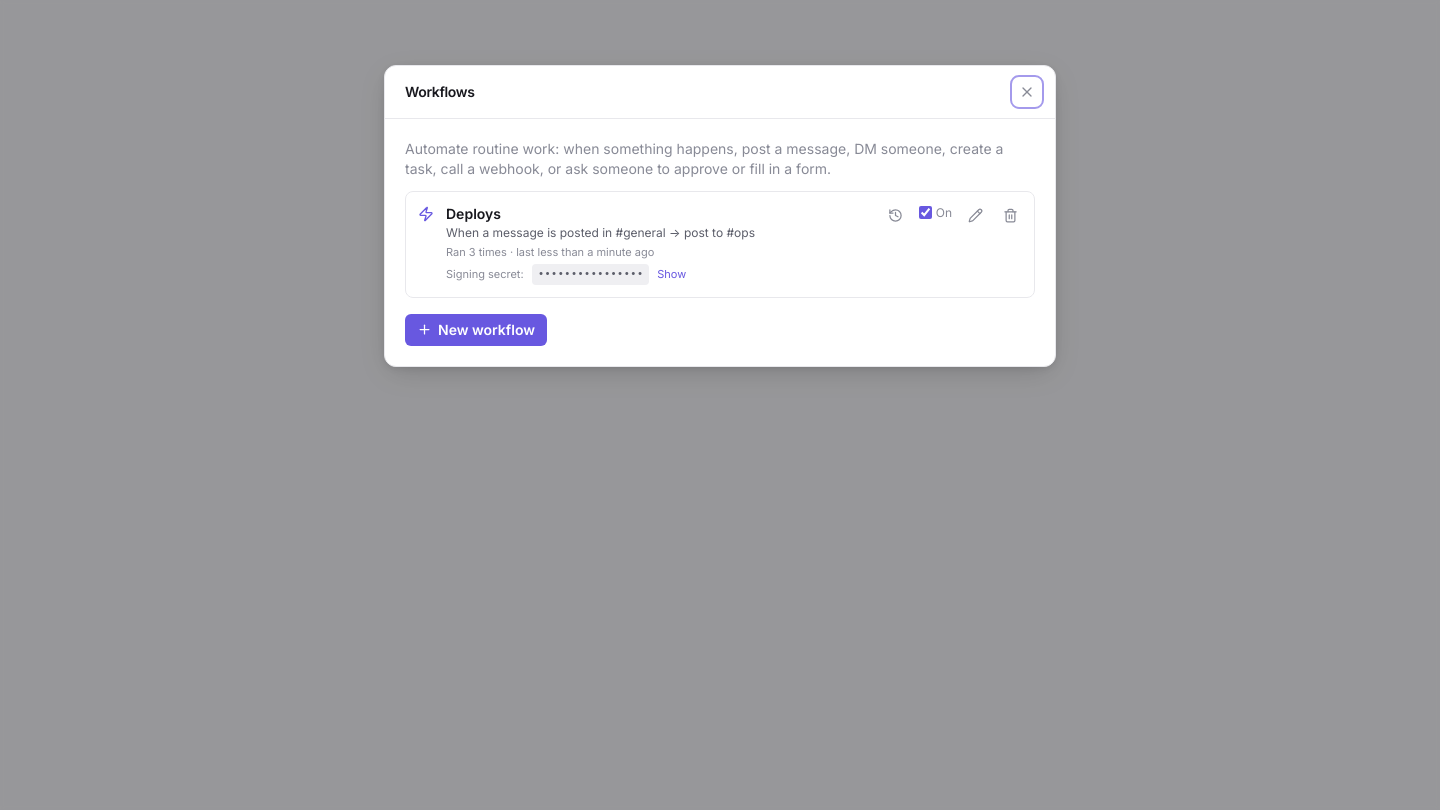
Test: WorkflowsDialog › shows run history and a hidden signing secret to admins
Check: the text "abc123secret" is not shown
Click the button "Show" at point(672, 275), box [657,266,686,283]
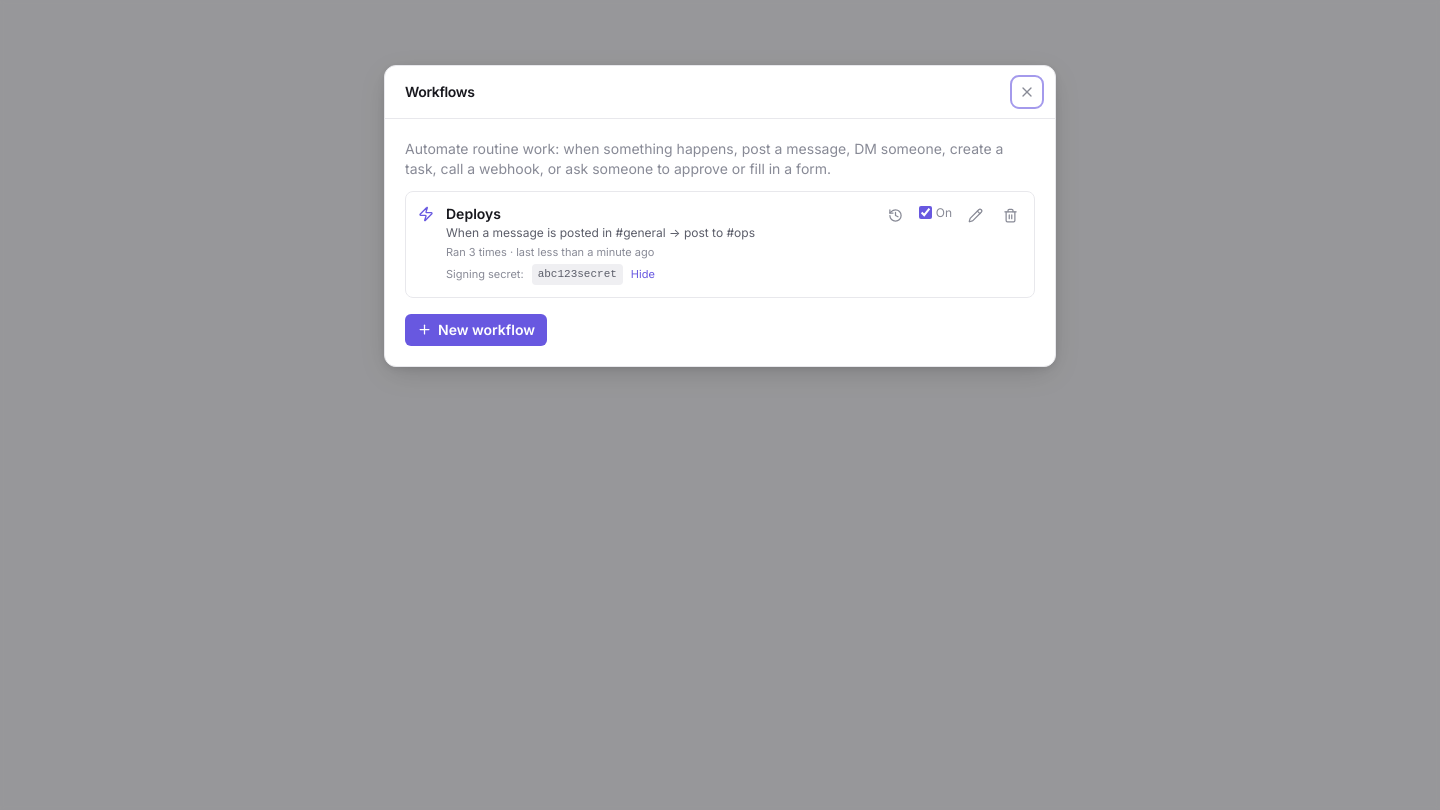
Check: the text "abc123secret" is shown, box [532,264,623,285]
Click the button named "Run history for Deploys" at point(895, 215), box [884,204,907,227]
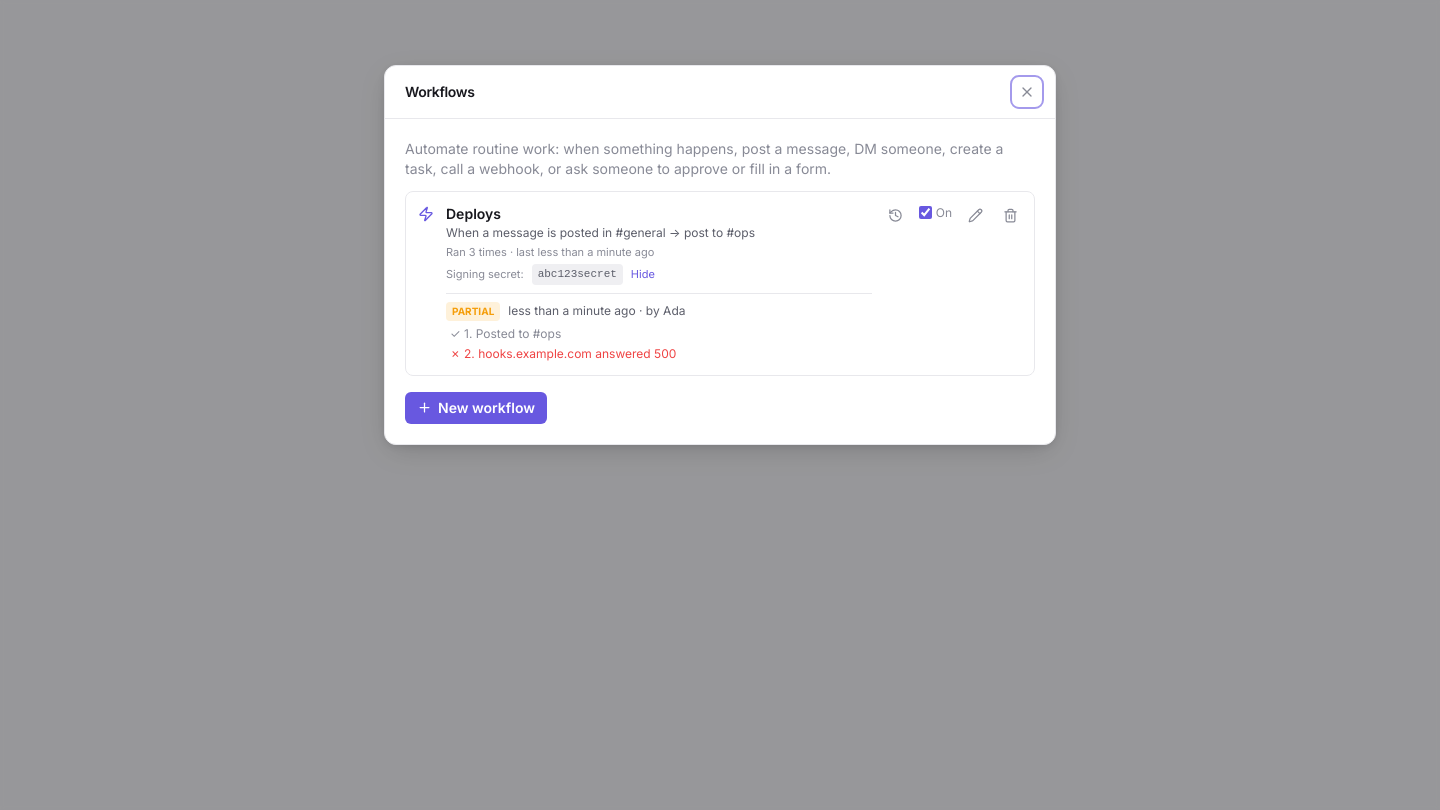
Check: the list with test id "workflow-runs" is shown, box [446,293,872,363]
Check: the text "PARTIAL" is shown, box [446,302,500,321]
Check: the list item "✗ 2. hooks.example.com answered 500" is shown, box [450,346,676,361]
